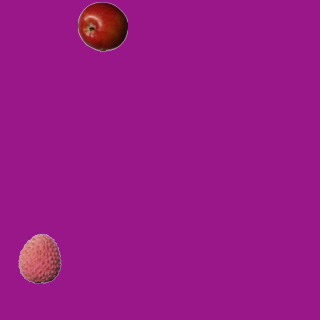Apple Braeburn: (77, 1, 127, 51)
Lychee: (14, 233, 64, 283)
